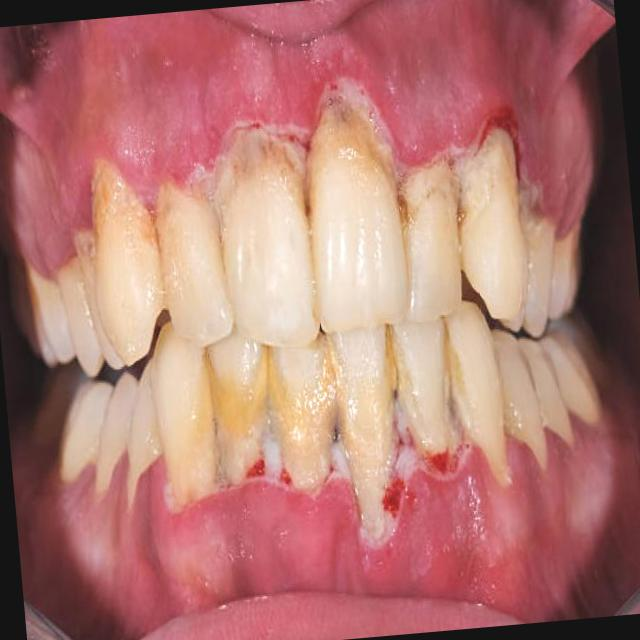calculus: (294, 81, 411, 333), (210, 102, 320, 336), (65, 137, 166, 357), (137, 126, 232, 350), (323, 294, 408, 531), (144, 347, 232, 548), (440, 284, 517, 512), (202, 330, 290, 522), (452, 123, 534, 324), (264, 318, 341, 497), (399, 155, 472, 338), (396, 312, 458, 484), (522, 173, 568, 336)
